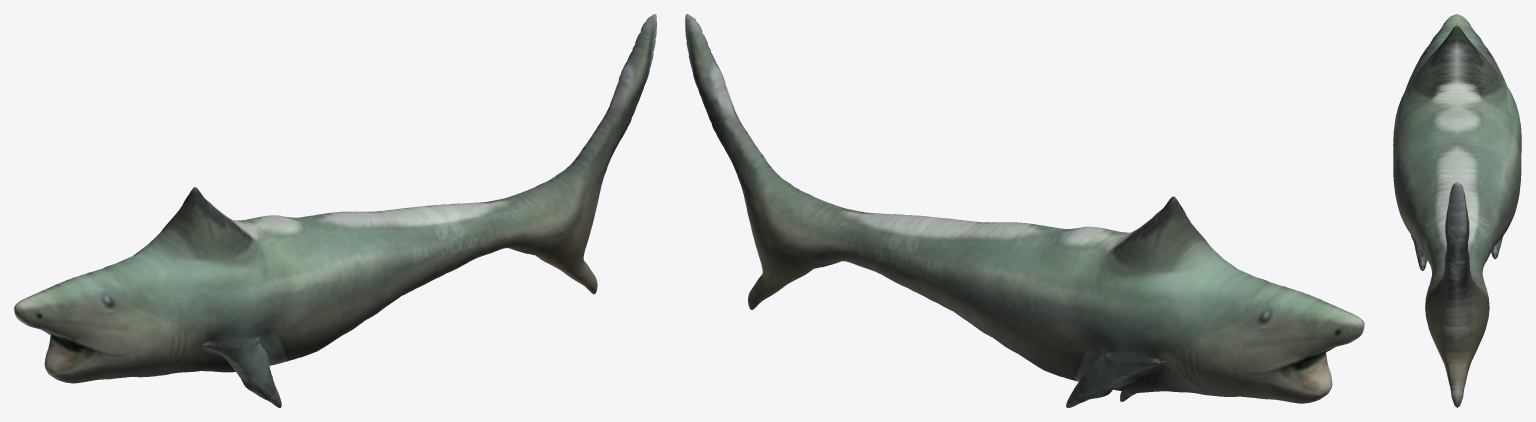
File: shark.glb
The picture shows the model from 3 angles, left to right: view 1: azimuth 30°, elevation 25°; view 2: azimuth 150°, elevation 25°; view 3: azimuth 270°, elevation 25°; orthographic projection. The views are drawn at different scales.
Visible parts, largest first — view 1: mesh_0; view 2: mesh_0; view 3: mesh_0.
Part boxes in pixels (x1,y1,x2,y2): mesh_0: (14, 14, 656, 407); mesh_0: (685, 14, 1364, 407); mesh_0: (1393, 14, 1521, 407).
Bounding box in the file's own units: 4 × 1.69 × 0.7261.
1 material, 1 textured.
